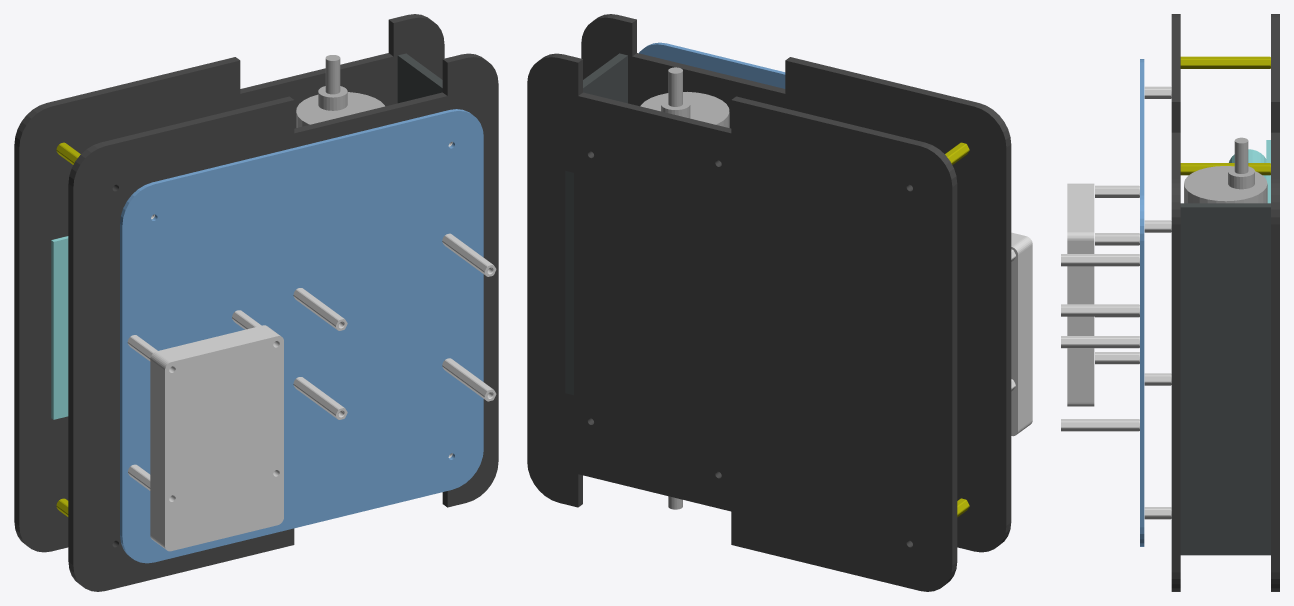
3 renders of one model, left to right at view 1: azimuth 30°, elevation 25°; view 2: azimuth 150°, elevation 25°; view 3: azimuth 270°, elevation 25°, orthographic. The views are drawn at different scales.
Parts seen in each view (by area): view 1: node; view 2: node; view 3: node.
Part boxes in pixels (box(x1,y1,x2,y2)): node: box(14, 14, 498, 591); node: box(527, 14, 1032, 591); node: box(1061, 14, 1279, 591).
Bounding box in the file's own units: 200 × 200 × 96.9.
